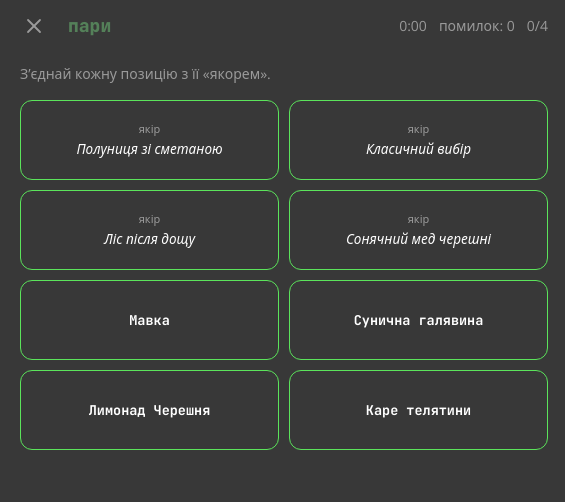
Test: match › pairs items with anchors, flags a wrong pair, and records both
Expected: the text "З’єднай кожну позицію з її «якорем»." is shown, [20,64,271,83]
Click the button "Мавка" at (150,320), box [20,280,279,360]
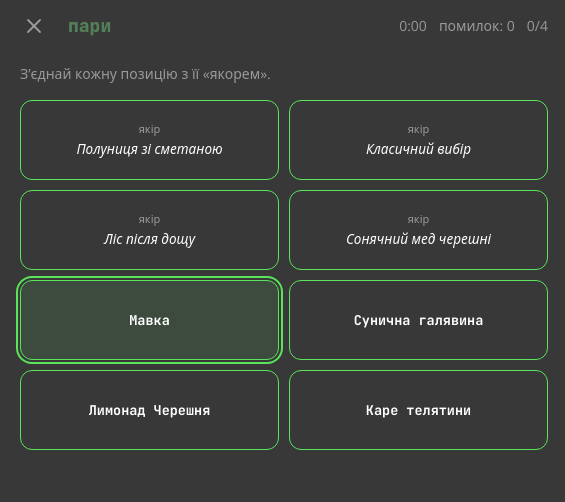
Click the button "якір Полуниця зі сметаною" at (150,140), box [20,100,279,180]
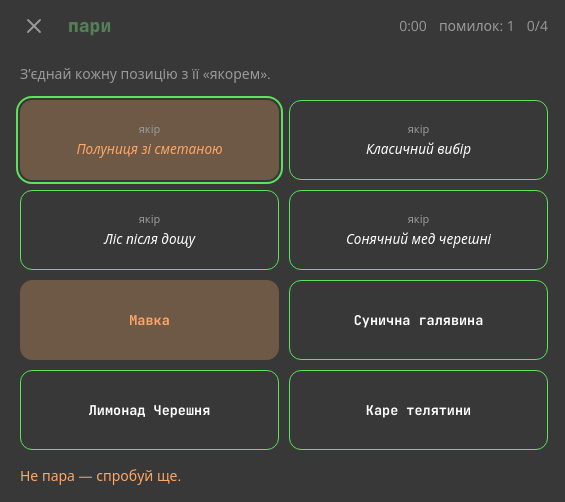
Now the text "Не пара — спробуй ще." is shown, box [20,466,181,485]
Now the text "помилок: 1" is shown, box [439,16,515,36]
Click the button "Мавка" at (150,320), box [20,280,279,360]
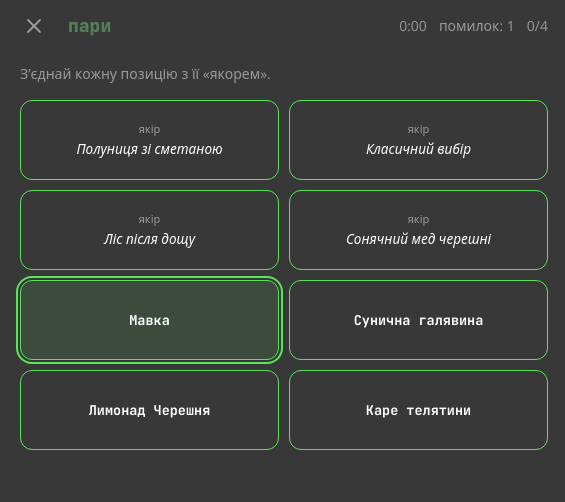
Click the button "якір Ліс після дощу" at (150,230), box [20,190,279,270]
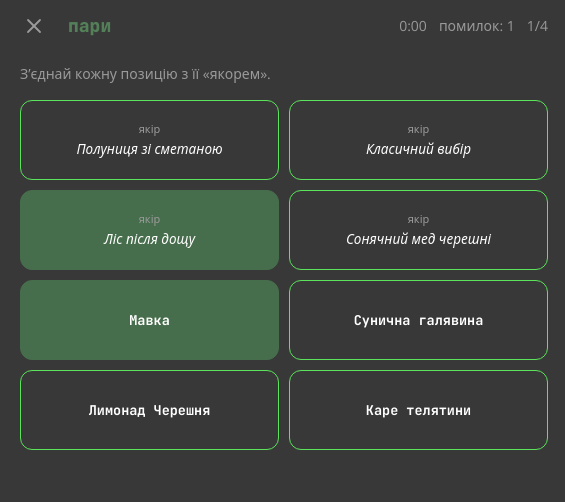
Now the button "Мавка" is disabled, box [20,280,279,360]
Now the text "1/4" is shown, box [527,16,548,36]
